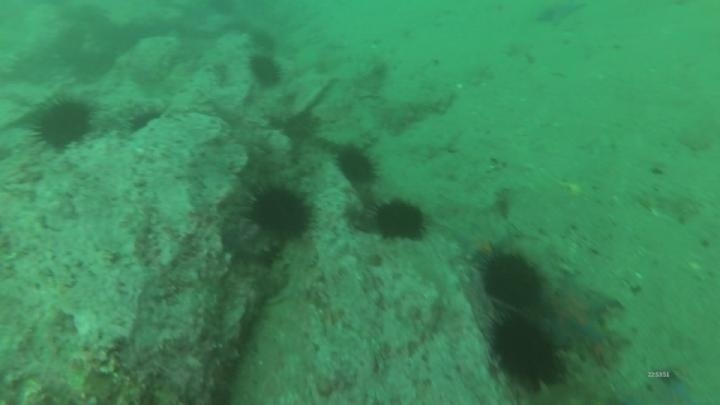echinus: (487, 312, 565, 389), (245, 182, 316, 242), (479, 251, 545, 311), (30, 95, 95, 152), (372, 197, 428, 243), (334, 144, 380, 188), (247, 53, 284, 90), (125, 105, 164, 137), (247, 28, 278, 53)
starfish: (542, 276, 618, 349), (454, 225, 504, 266), (649, 372, 701, 404), (534, 1, 591, 27)
